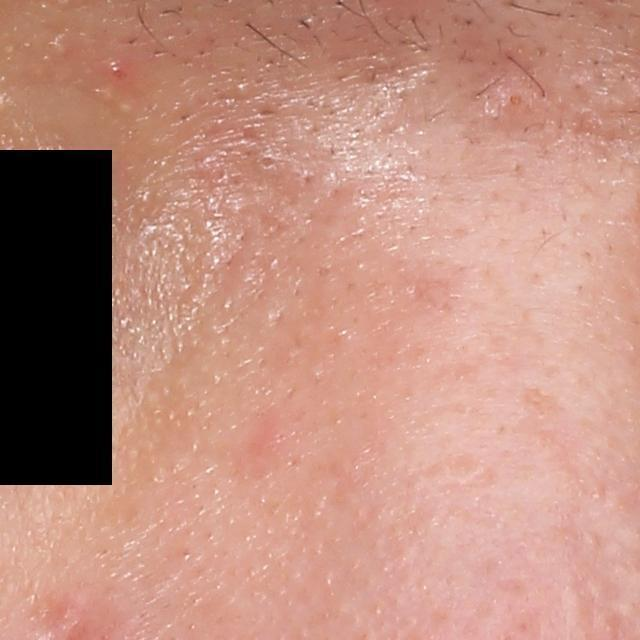comedo: (255, 147, 286, 181)
